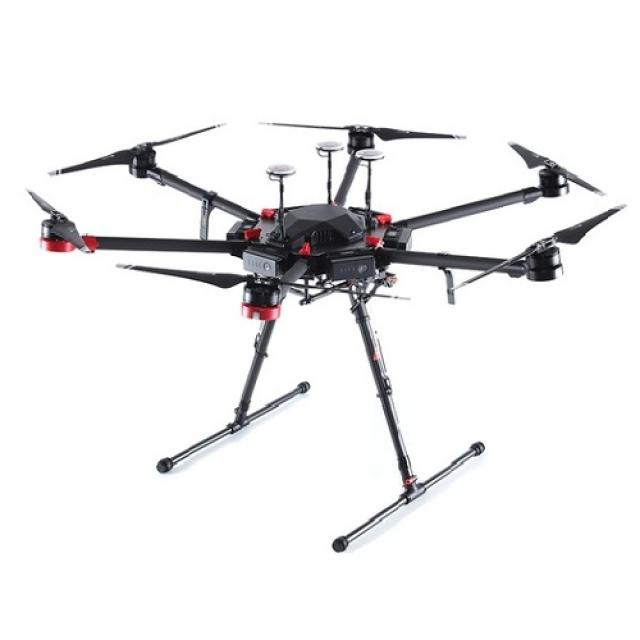drone: (0, 100, 633, 525)
